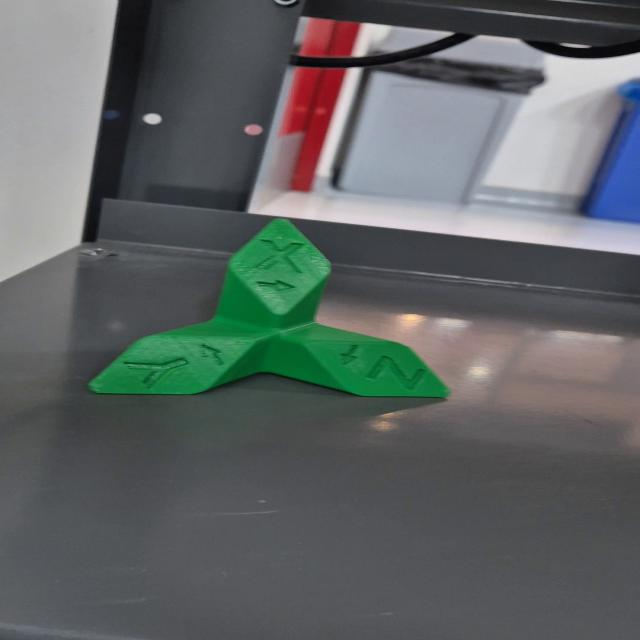objects: (83, 213, 456, 404)
